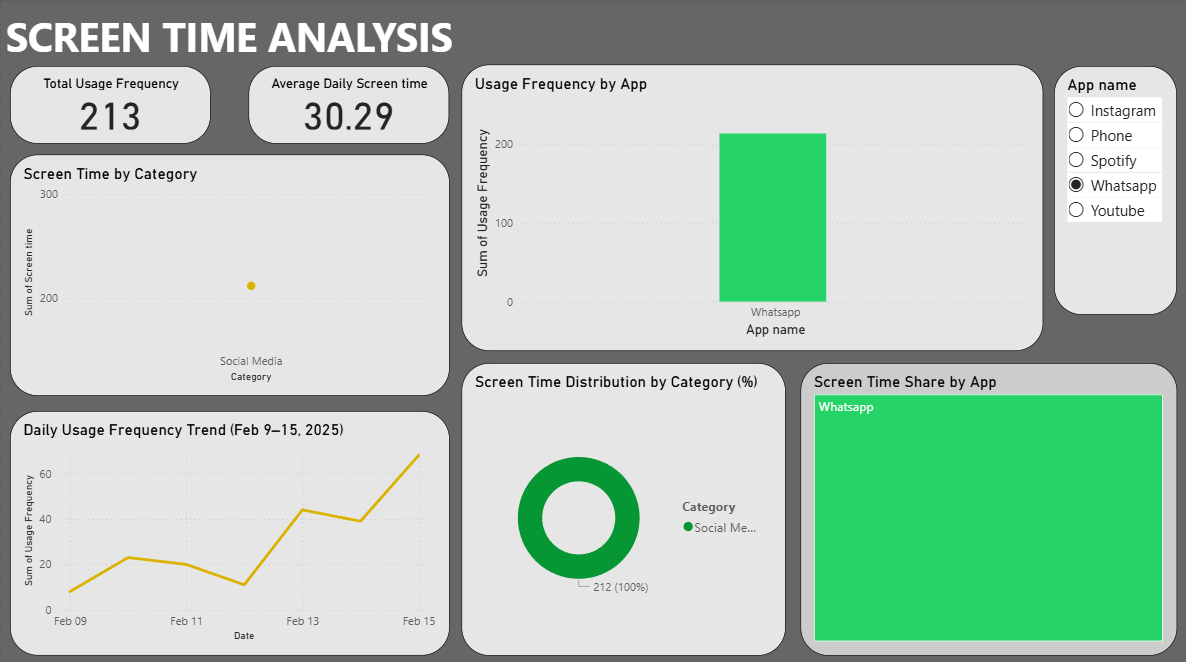

Layout of this report page (visuals, bound fields, positions):
{"tool":"powerbi","page":{"name":"Page 1","canvas":[1280,720],"ordinal":0},"visuals":[{"type":"lineChart","fields":{"Category":["Table 1 (Sheet1).Date"],"Y":["Sum(Table 1 (Sheet1).Usage Frequency)"]},"box":[9.7,446.9,474.4,263.9],"z":0},{"type":"clusteredColumnChart","fields":{"Category":["Table 1 (Sheet1).App name"],"Y":["Sum(Table 1 (Sheet1).Usage Frequency)"]},"box":[497.1,72.9,631.5,270.4],"z":1000},{"type":"card","title":"Average Screen time","fields":{"Values":["Avg(Table 1 (Sheet1).Screen time)"]},"box":[267.2,74.5,217,103.6],"z":2000},{"type":"listSlicer","fields":{"Values":["Table 1 (Sheet1).App name"]},"box":[1139.9,74.5,129.5,268.8],"z":3000},{"type":"areaChart","fields":{"Category":["Table 1 (Sheet1).Category"],"Y":["Sum(Table 1 (Sheet1).Screen time)"]},"box":[9.7,184.6,474.4,246.1],"z":4000},{"type":"treemap","fields":{"Details":["Table 1 (Sheet1).App name"],"Values":["Sum(Table 1 (Sheet1).Screen time)"]},"box":[863,359.5,406.4,351.4],"z":5000},{"type":"card","title":"Total Usage Frequency","fields":{"Values":["Sum(Table 1 (Sheet1).Usage Frequency)"]},"box":[9.7,74.5,217,103.6],"z":6000},{"type":"textbox","box":[0,8.1,497.1,66.4],"z":7000},{"type":"donutChart","title":"Percentage of Total Screen time ","fields":{"Y":["Sum(Table 1 (Sheet1).Screen time)"],"Category":["Table 1 (Sheet1).Category"]},"box":[497.1,359.5,349.8,351.4],"z":8000}]}

Visuals, with their boxes in screenshot pixels (x1, y1, x2, y2), scaled from the page's 1280x720 canvas onto the 1186x662 screenshot:
lineChart - Table 1 (Sheet1).Date x Sum(Table 1 (Sheet1).Usage Frequency): (9,411,449,654)
clusteredColumnChart - Table 1 (Sheet1).App name x Sum(Table 1 (Sheet1).Usage Frequency): (461,67,1046,316)
"Average Screen time" card: (248,68,449,164)
listSlicer - Table 1 (Sheet1).App name: (1056,68,1176,316)
areaChart - Table 1 (Sheet1).Category x Sum(Table 1 (Sheet1).Screen time): (9,170,449,396)
treemap - Table 1 (Sheet1).App name x Sum(Table 1 (Sheet1).Screen time): (800,331,1176,654)
"Total Usage Frequency" card: (9,68,210,164)
textbox: (0,7,461,68)
"Percentage of Total Screen time " donutChart: (461,331,785,654)
